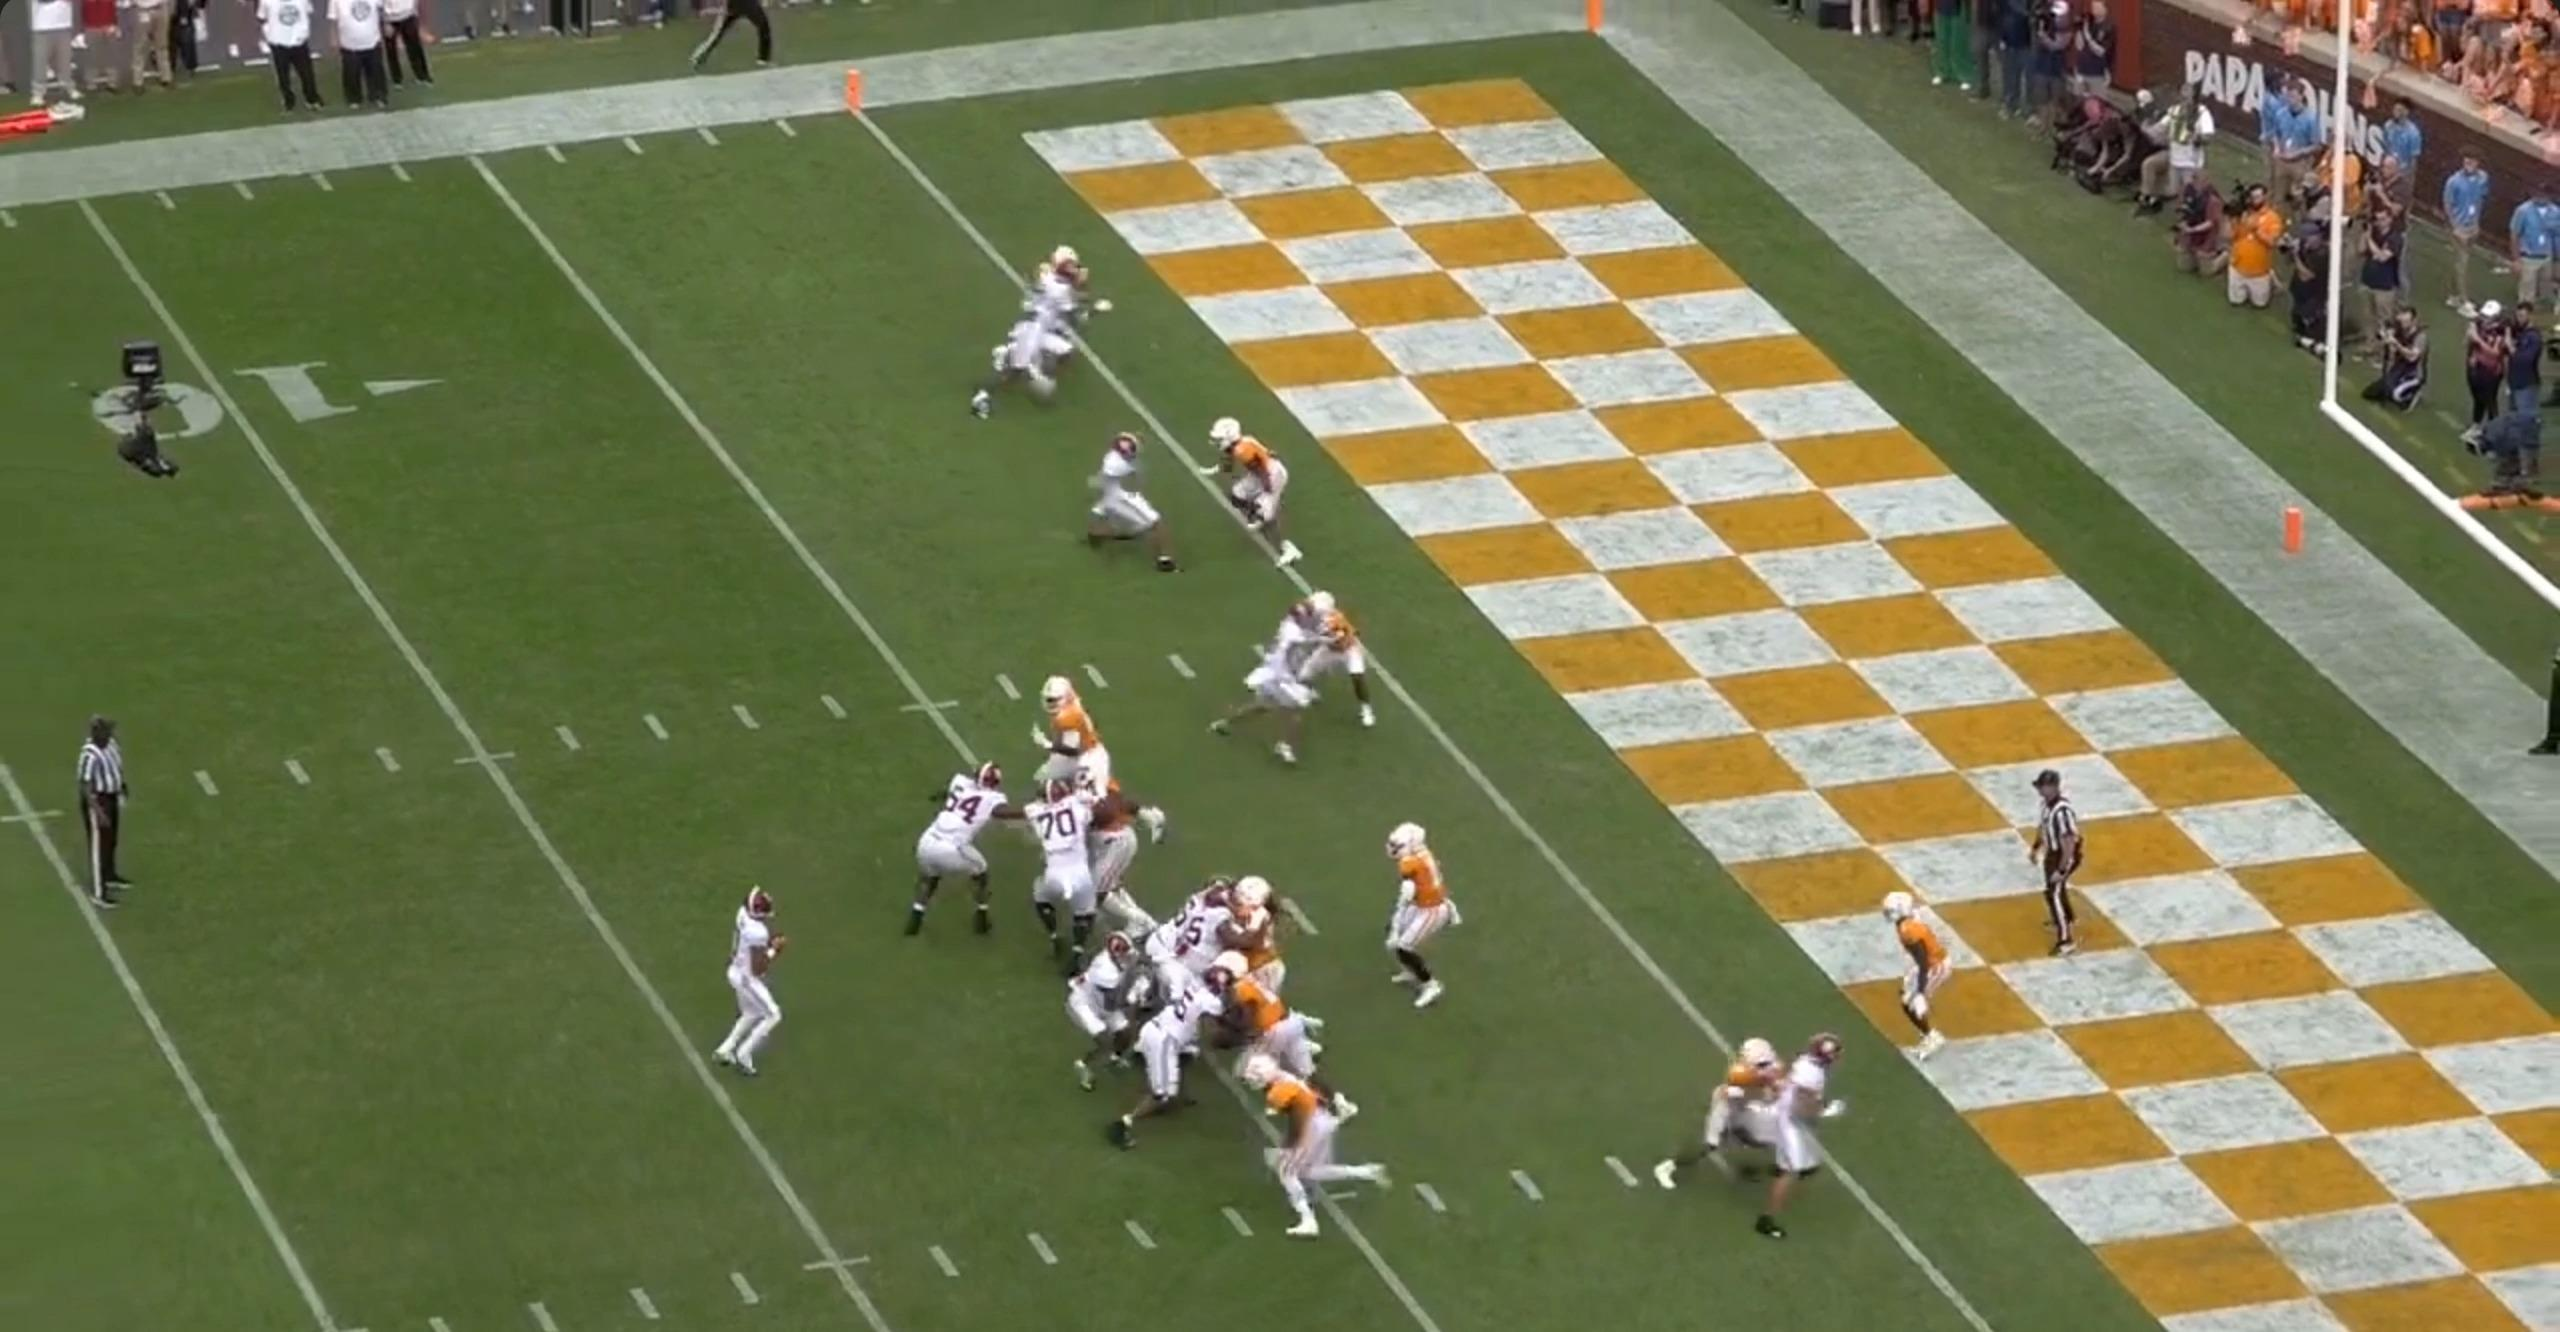player: (1249, 1056, 1394, 1249), (893, 763, 1036, 949), (1213, 958, 1359, 1133), (1109, 966, 1238, 1151), (1214, 596, 1341, 773), (1747, 1032, 1851, 1248), (1642, 1034, 1781, 1194), (1366, 815, 1466, 1012), (1078, 755, 1179, 936), (1867, 883, 1967, 1062), (710, 888, 798, 1090), (1234, 871, 1331, 1047), (1025, 777, 1107, 980), (972, 297, 1093, 433), (1205, 414, 1304, 575), (1071, 424, 1172, 576), (1074, 925, 1160, 1091), (1031, 670, 1118, 832), (1028, 244, 1109, 388), (1298, 590, 1373, 735), (1161, 884, 1236, 1018), (1139, 875, 1232, 970)
ref: (66, 716, 136, 924), (2030, 761, 2096, 966)
